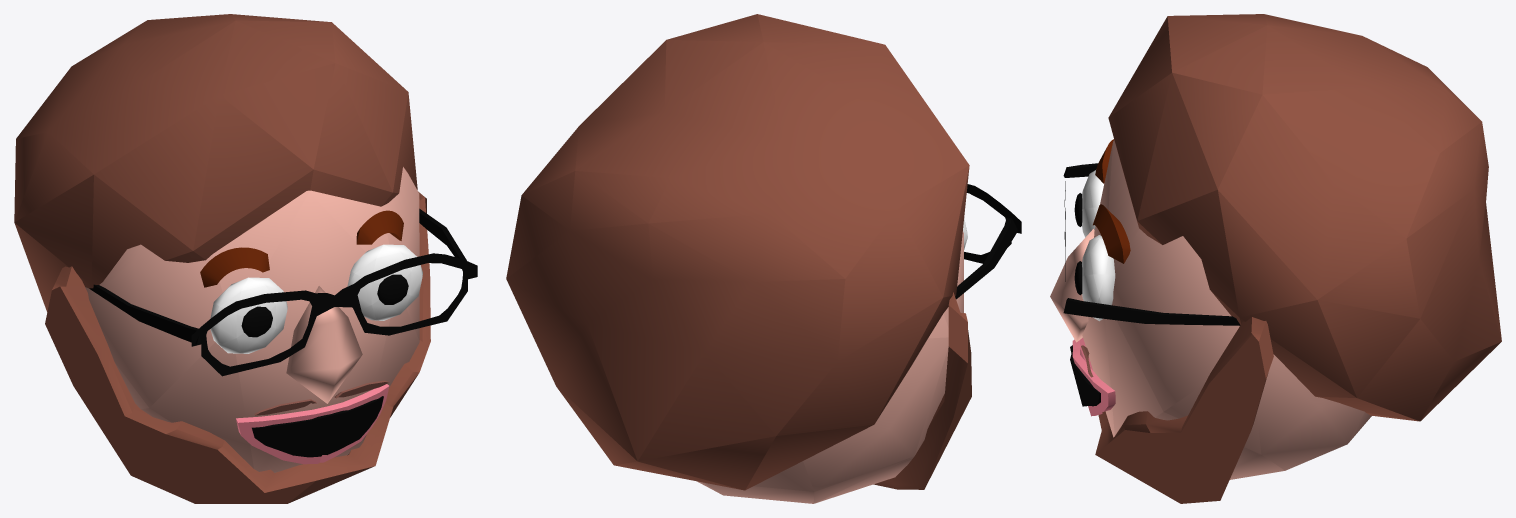
The picture shows the model from 3 angles, left to right: view 1: azimuth 30°, elevation 25°; view 2: azimuth 150°, elevation 25°; view 3: azimuth 270°, elevation 25°; orthographic projection. The views are drawn at different scales.
Visible parts, largest first — view 1: Default StructuredGeometry Name (×6), Barba - baked 2, Box - baked (×2), Barba - baked 1, Capsule, Object 1 (×2), Symmetry - baked 1, Object 3 (×2), Symmetry - baked 2, Capsule 2, Capsule 1; view 2: Default StructuredGeometry Name (×2), Barba - baked 2, Object 3, Box - baked; view 3: Default StructuredGeometry Name (×4), Barba - baked 1, Object 3, Capsule, Capsule 1, Object 1, Symmetry - baked 2.
Boxes of the visible parts, x1,y1,x2,y2 form: Default StructuredGeometry Name (×6): (14, 14, 422, 472); Barba - baked 2: (45, 266, 316, 503); Box - baked (×2): (191, 253, 477, 376); Barba - baked 1: (288, 191, 430, 503); Capsule: (286, 286, 362, 403); Object 1 (×2): (236, 384, 389, 464); Symmetry - baked 1: (252, 414, 333, 457); Object 3 (×2): (89, 208, 474, 344); Symmetry - baked 2: (322, 396, 383, 454); Capsule 2: (200, 247, 269, 287); Capsule 1: (356, 210, 403, 244); Default StructuredGeometry Name (×2): (506, 14, 969, 503); Barba - baked 2: (873, 292, 971, 489); Object 3: (955, 218, 1017, 299); Box - baked: (964, 184, 1021, 263); Default StructuredGeometry Name (×4): (1082, 14, 1501, 479); Barba - baked 1: (1095, 317, 1273, 503); Object 3: (1063, 298, 1240, 325); Capsule: (1050, 229, 1094, 342); Capsule 1: (1093, 204, 1130, 263); Object 1: (1072, 348, 1115, 416); Symmetry - baked 2: (1070, 353, 1100, 406).
Bounding box in the file's own units: 0.4597 × 0.5029 × 0.4572.
